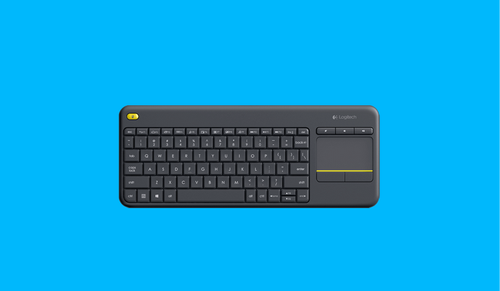logitech-keyboard-k400: (116, 103, 382, 210)
